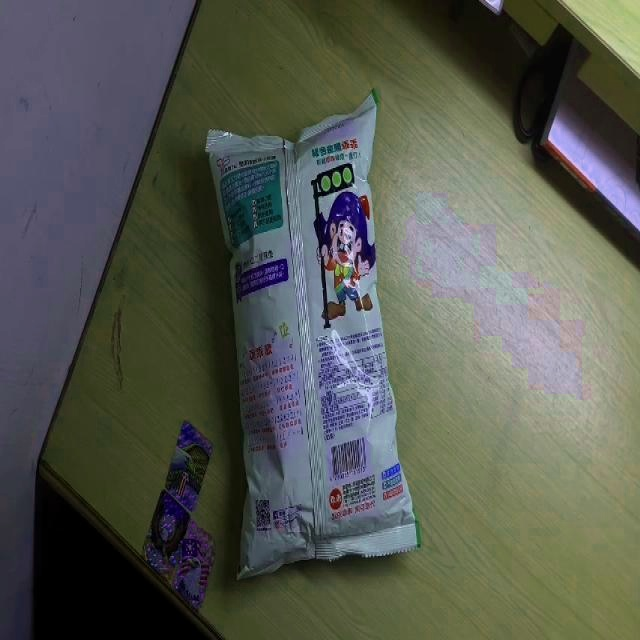Good-Luck: (205, 88, 423, 578)
